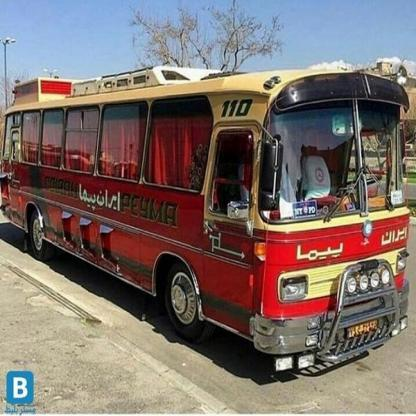Bus: (0, 53, 413, 375)
